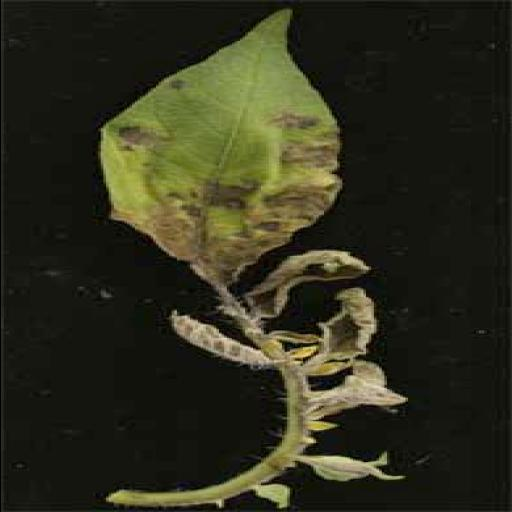Late Blight: (84, 2, 350, 286)
